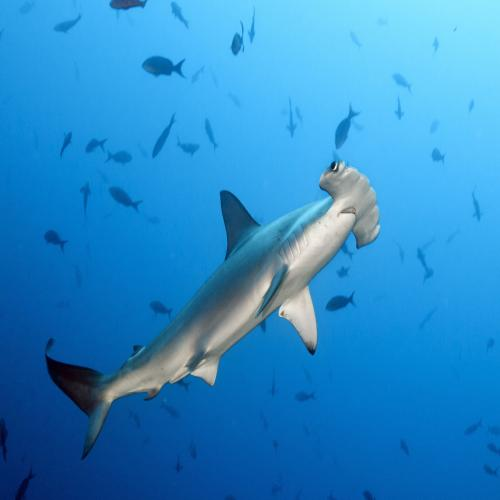shark-endangered: (43, 154, 382, 458)
